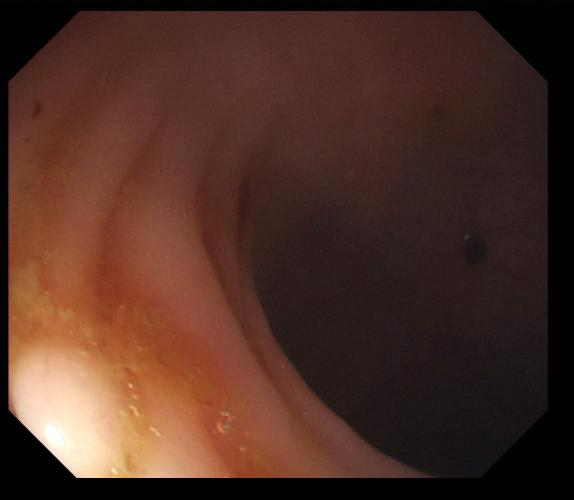polyp: (9, 341, 131, 478)
